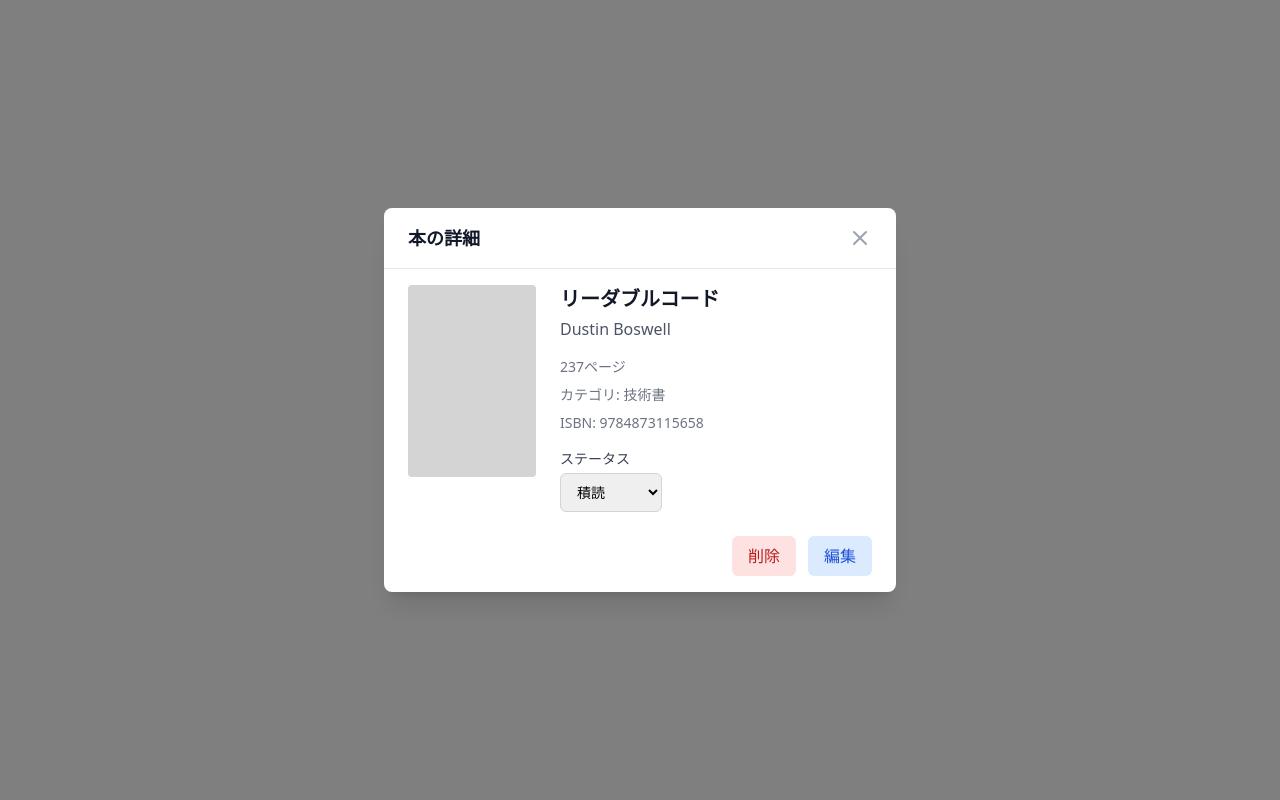
it: BookDetailModal › 「編集」ボタンをクリックすると編集モーダルが表示される
Click the button "編集". click: (840, 556)
box: [808, 536, 872, 576]
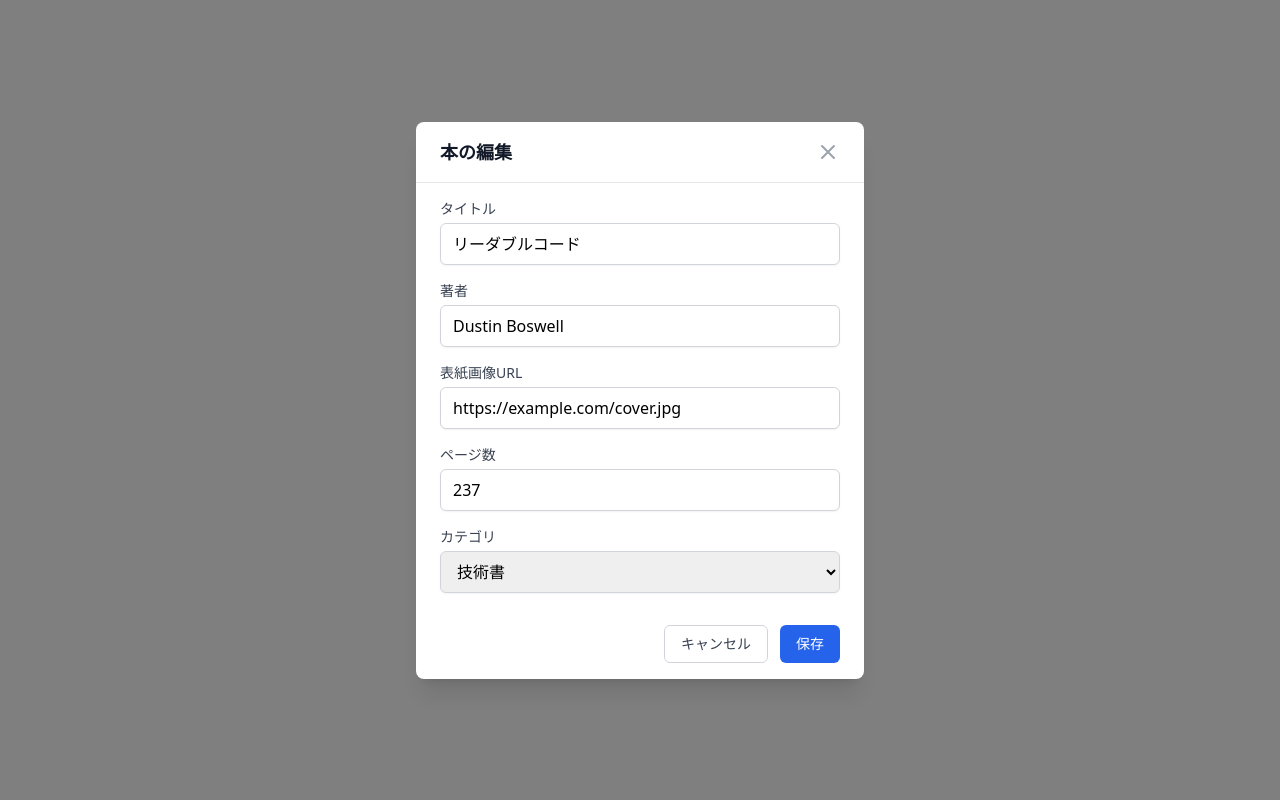
Now the heading "本の編集" is shown, box [440, 138, 512, 166]
